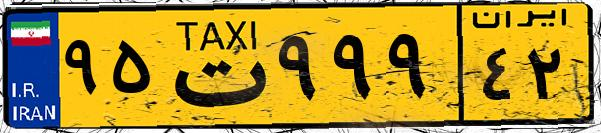2: (525, 38, 570, 115)
4: (475, 38, 525, 113)
5: (110, 28, 158, 98)
9: (270, 28, 330, 110), (385, 28, 445, 110), (330, 28, 385, 110), (57, 26, 110, 100)
ت: (158, 12, 270, 120)
